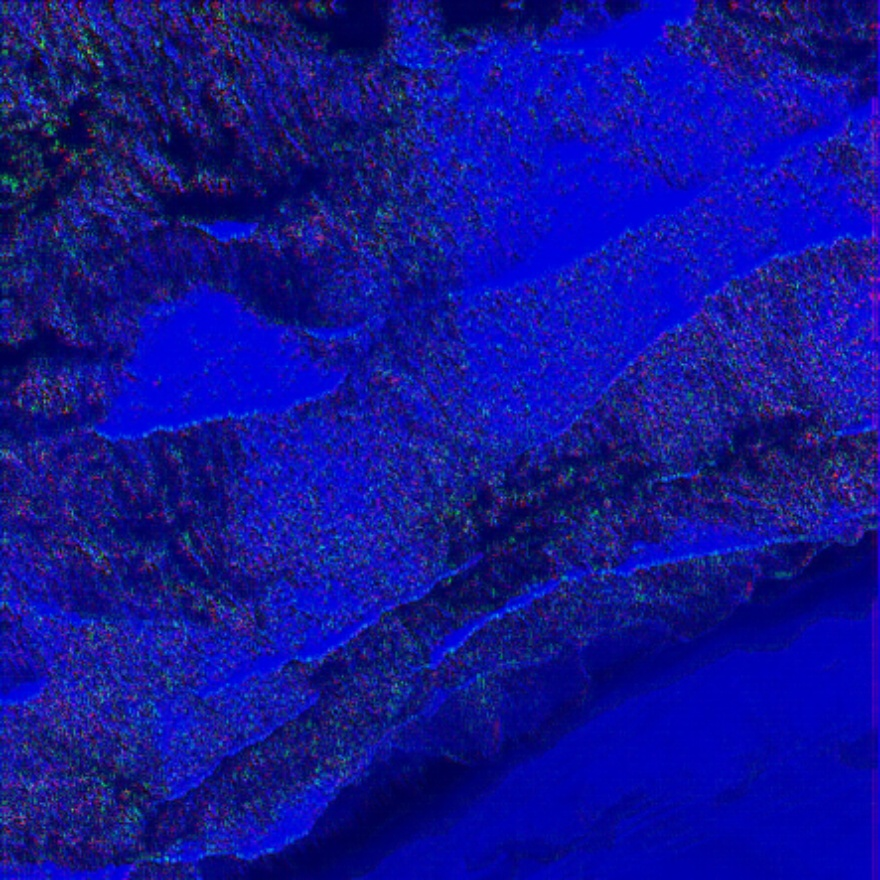rip_current: (208, 48, 543, 529)
